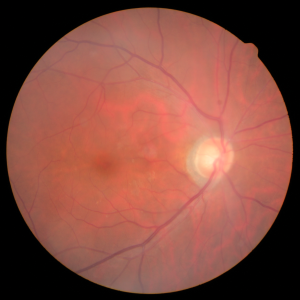healthy_eye: (50, 90, 270, 208)
